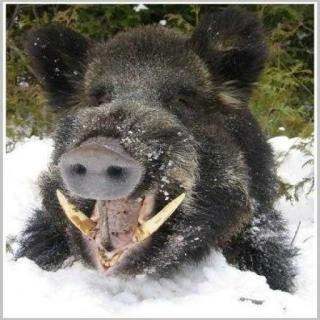Pig: (59, 11, 314, 290)
